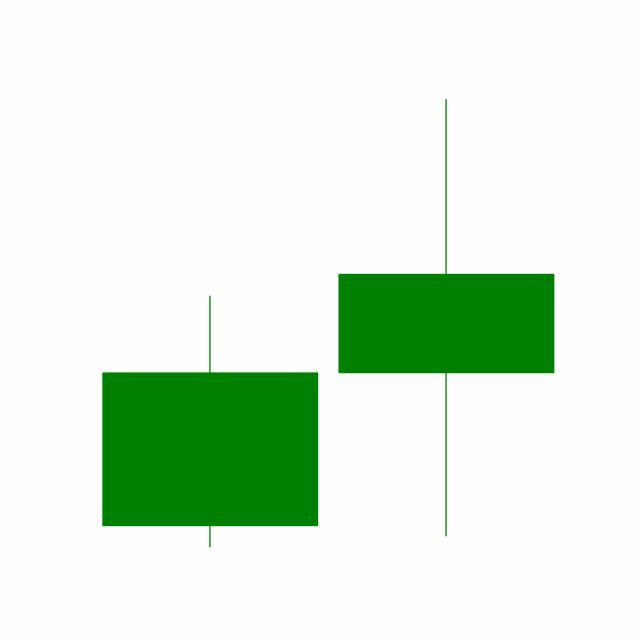Spinning Top: (328, 94, 566, 542)
